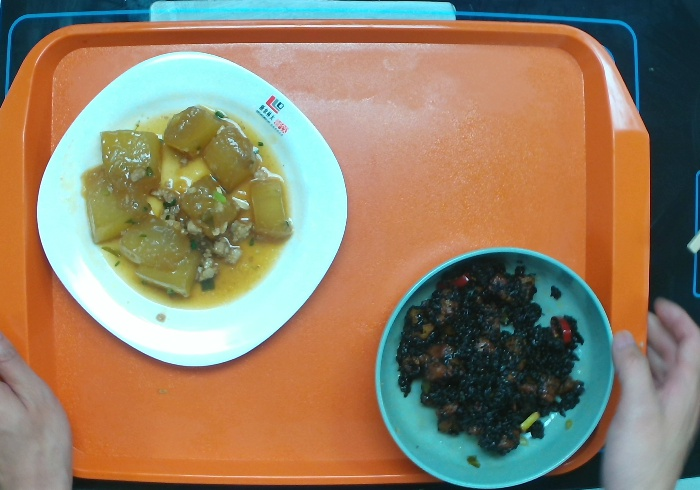ZNLD-Qing_Hua_Yuan_Wan: (356, 235, 628, 490)
ZNLD-Yuan_Jiao_Pan: (31, 34, 354, 375)
